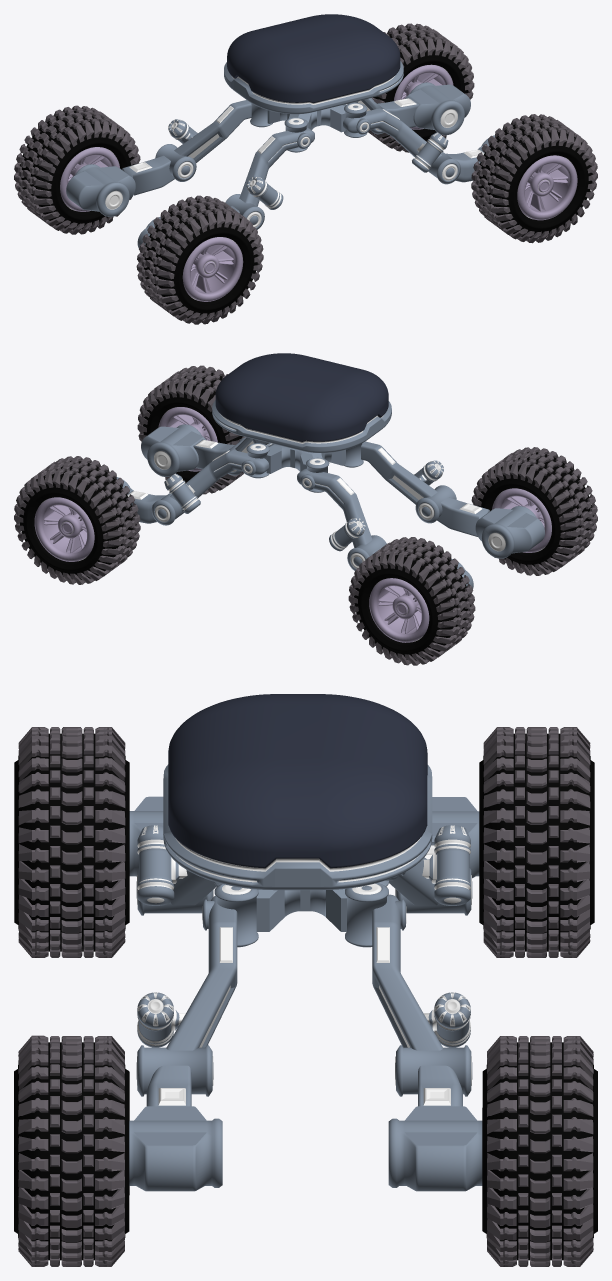
The model's file is DRON 001.fbx.
The picture shows the model from 3 angles, top to bottom: view 1: azimuth 30°, elevation 25°; view 2: azimuth 150°, elevation 25°; view 3: azimuth 270°, elevation 25°; orthographic projection. The views are drawn at different scales.
Parts seen in each view (by area): view 1: Sphere; view 2: Sphere; view 3: Sphere.
Boxes of the visible parts, x1,y1,x2,y2 form: Sphere: (14,14,597,324); Sphere: (14,353,597,665); Sphere: (14,694,597,1266).
Bounding box in the file's own units: 881 × 374 × 535.
